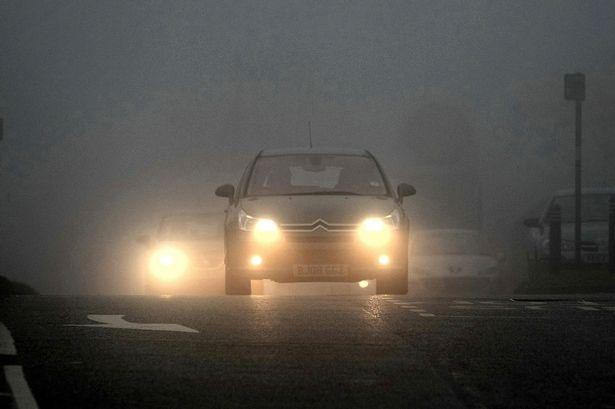car: (215, 143, 419, 296), (135, 207, 268, 297), (523, 186, 615, 287), (402, 227, 506, 305)
